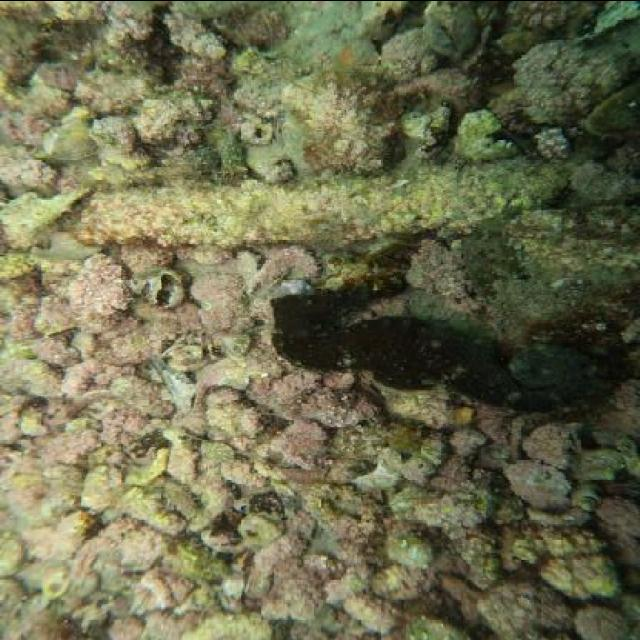Hippo: (256, 268, 375, 340)
